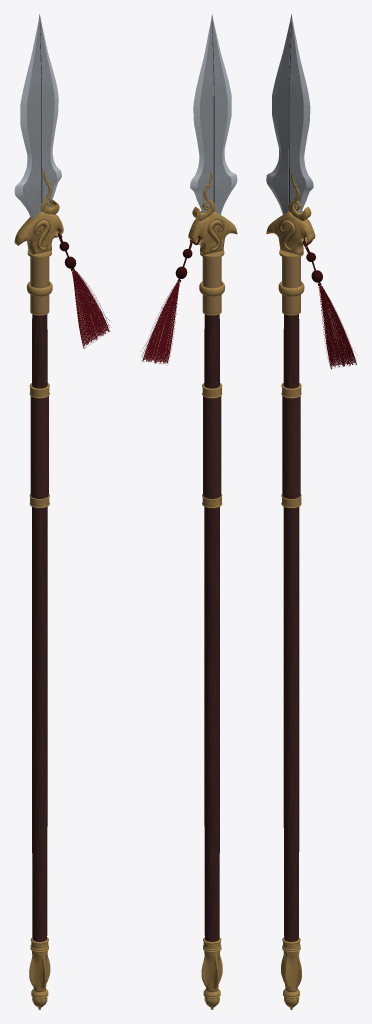
File: SM_ImperialSpear_LOD1.fbx
3 views of the same model, side by side, from view 1: azimuth 30°, elevation 25°; view 2: azimuth 210°, elevation 25°; view 3: azimuth 330°, elevation 25° (orthographic).
Parts seen in each view (by area): view 1: SM_ImperialSpear_LOD1; view 2: SM_ImperialSpear_LOD1; view 3: SM_ImperialSpear_LOD1.
Boxes of the visible parts, bbox=[...] form: SM_ImperialSpear_LOD1: bbox=[14, 14, 110, 1009]; SM_ImperialSpear_LOD1: bbox=[140, 14, 237, 1009]; SM_ImperialSpear_LOD1: bbox=[266, 14, 357, 1009].
Size of the model in its own units: 0.2209 by 0.0528 by 2.23.
Materials: 1 (1 with a texture image).
